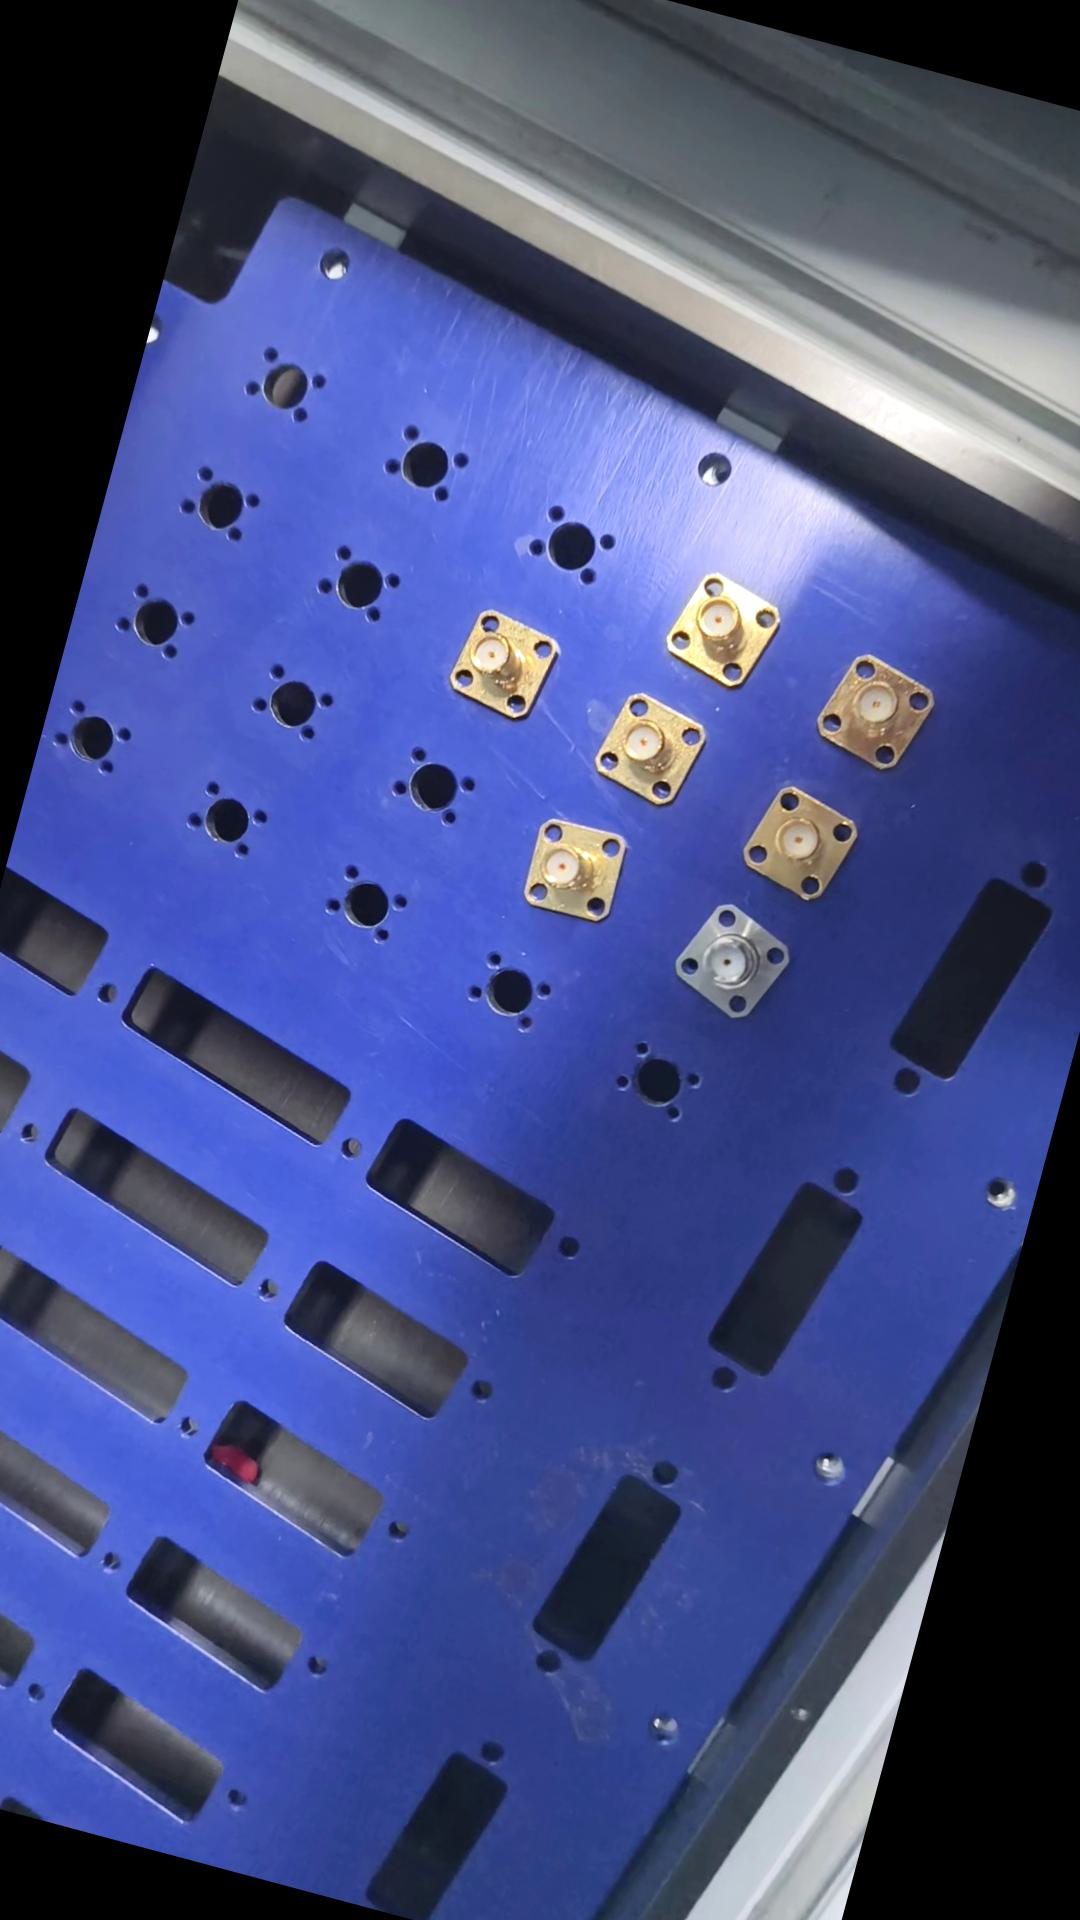SMA: (800, 645, 945, 781), (655, 891, 799, 1026), (647, 559, 787, 691), (727, 777, 861, 906), (505, 806, 638, 935), (578, 687, 713, 811), (436, 600, 562, 731)
